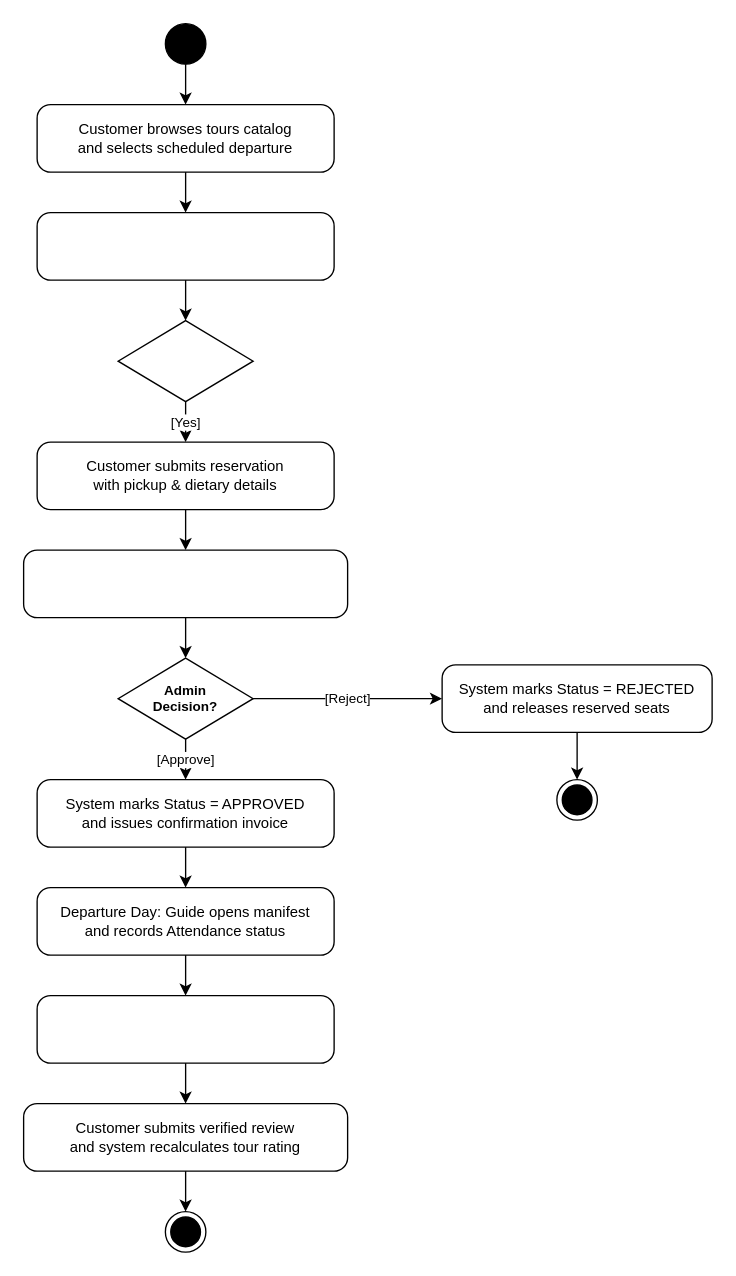
This 736x1276 diagram has some shape labels left out. The centre of each missing label's shape, as x and y in pixels:
Seats Available?: the point at 185,360
System calculates live quote and validates coupon voucher: the point at 185,245
System executes atomic transaction: Locks departure & creates Pending booking: the point at 185,583
Tour concludes successfully: Departure & Booking = COMPLETED: the point at 185,1028
